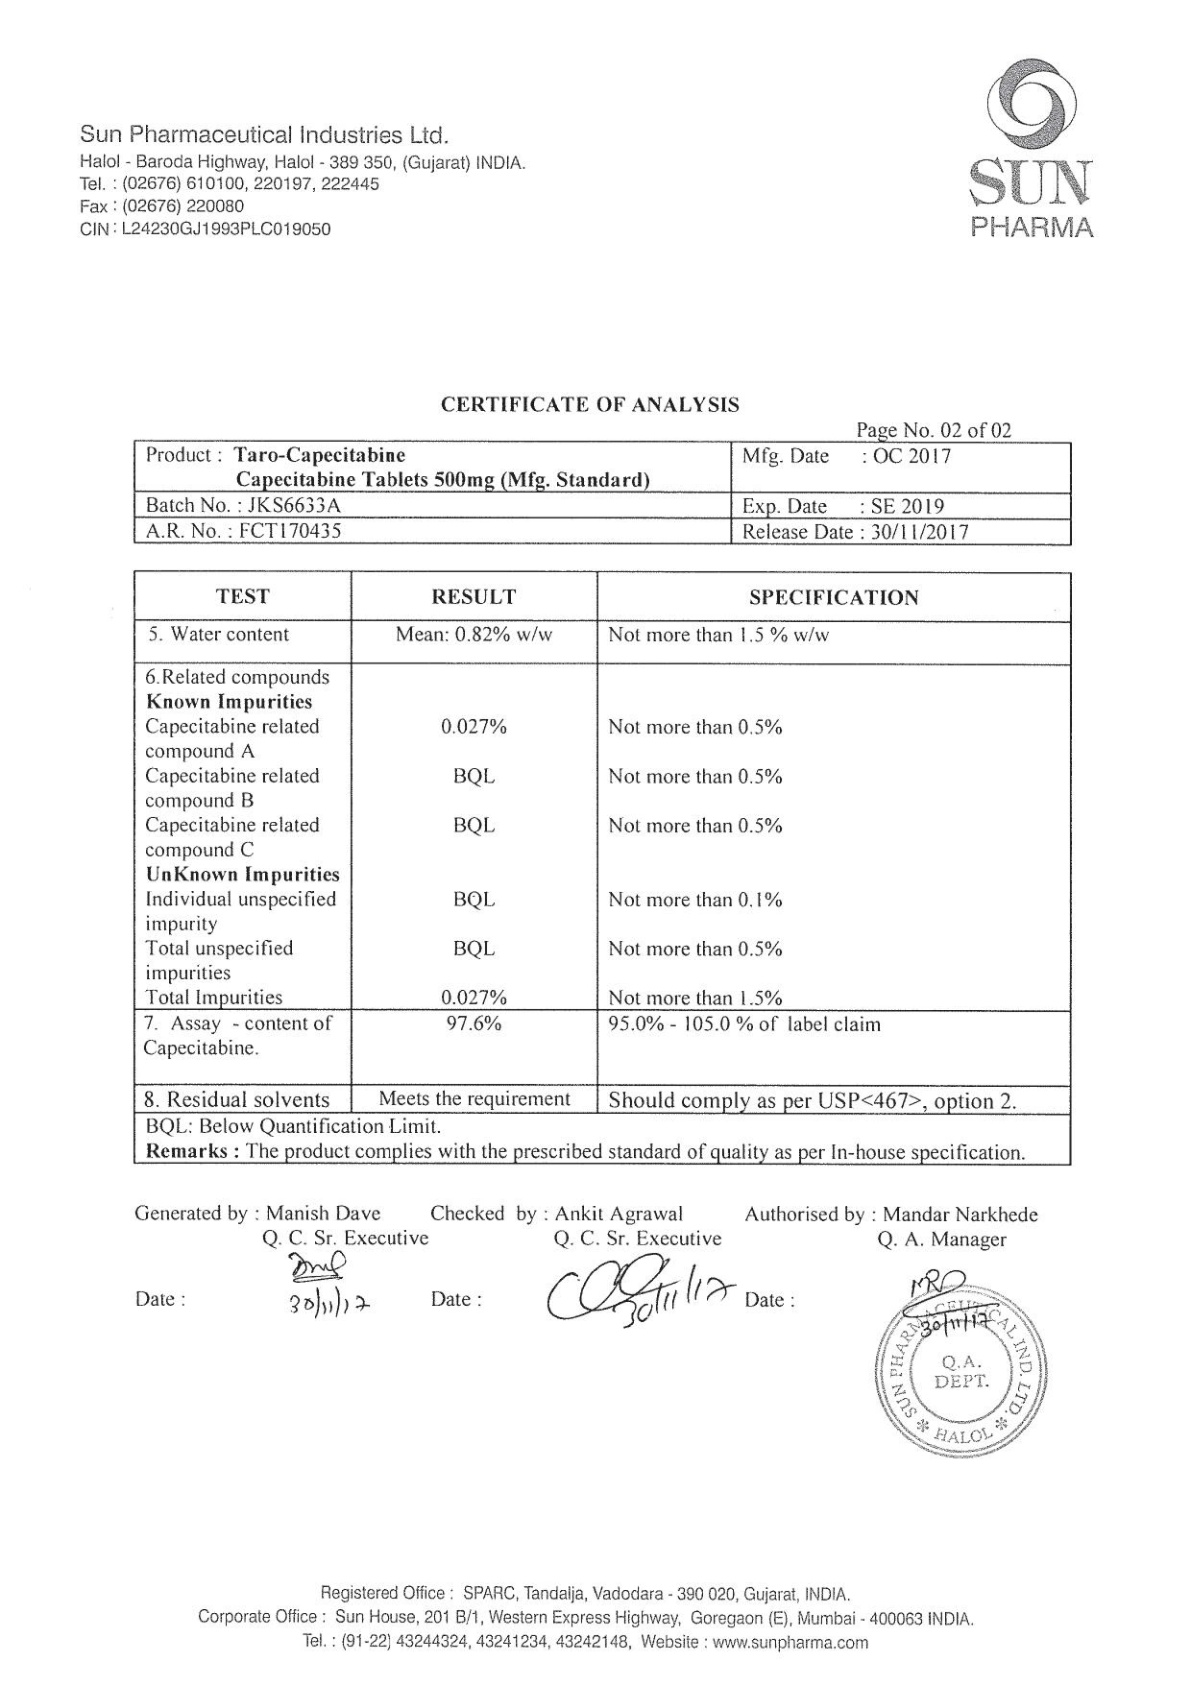full_lined: (131, 440, 1072, 547)
merged_cells: (133, 570, 1072, 1165)
